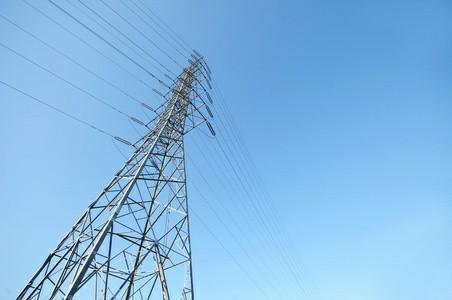power_tower: (16, 50, 217, 300)
